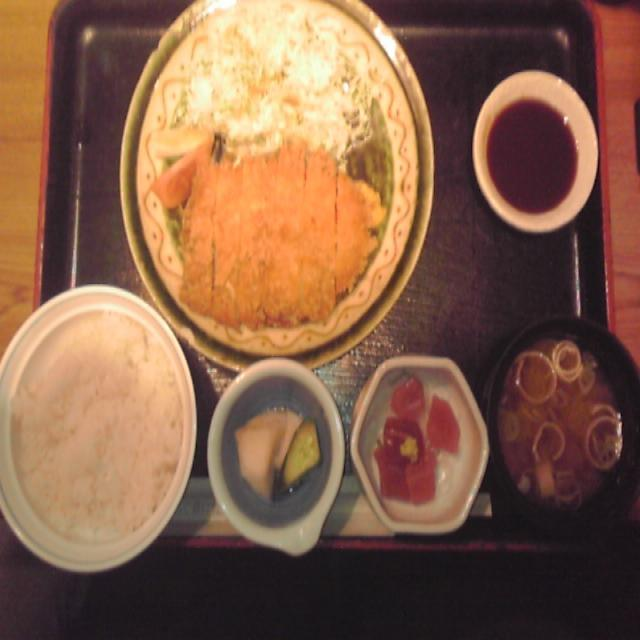Rice: (24, 328, 184, 566)
